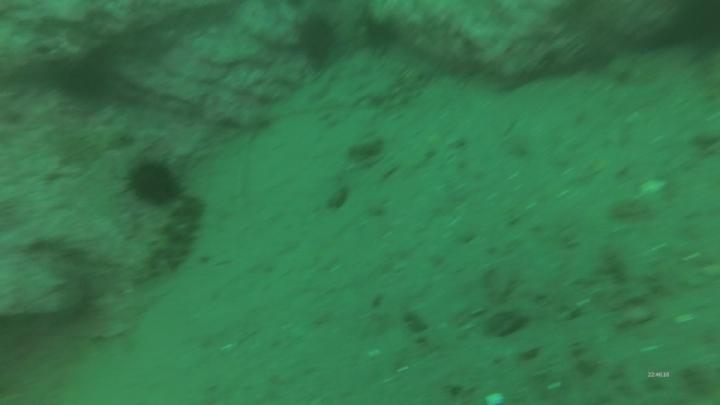echinus: (121, 160, 185, 208), (296, 12, 341, 71)
holothurian: (121, 196, 207, 291)
